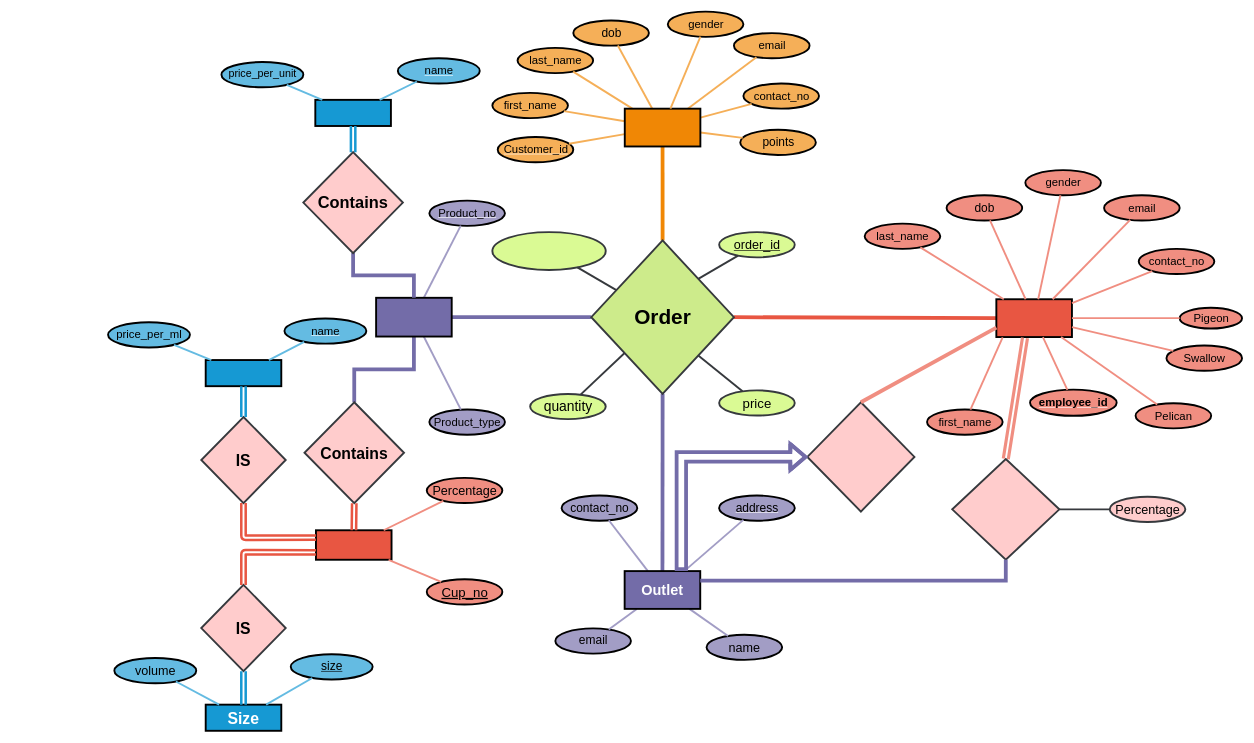
This 1254x743 diagram has some shape labels left out. The box of each missing label's shape, as (x1, y1, x2, y2) in pixels:
Customer: (624, 107, 701, 147)
Date_of_purchase: (491, 231, 606, 271)
Employee: (995, 298, 1073, 338)
Ingredient: (204, 359, 282, 387)
Juice: (315, 529, 392, 560)
Manages: (806, 401, 915, 512)
Non-Juice: (314, 99, 392, 127)
Product: (375, 297, 452, 337)
Workin: (951, 458, 1060, 560)
